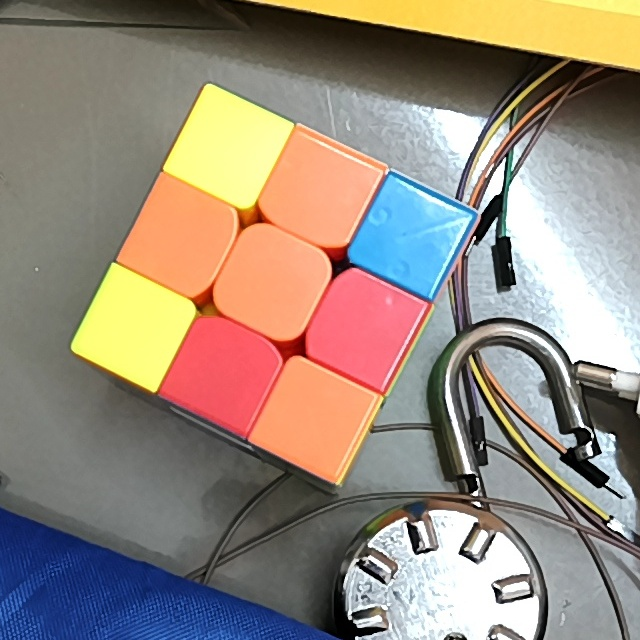tile: (233, 248, 305, 316), (283, 157, 352, 226), (278, 384, 347, 453), (190, 337, 259, 406), (329, 293, 398, 360), (148, 202, 215, 269), (102, 293, 169, 360), (377, 201, 443, 267), (192, 116, 259, 179)
